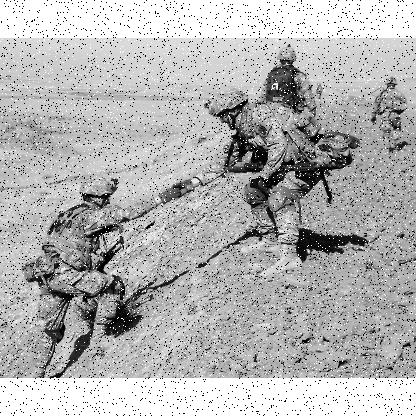gun: (224, 162, 344, 200)
